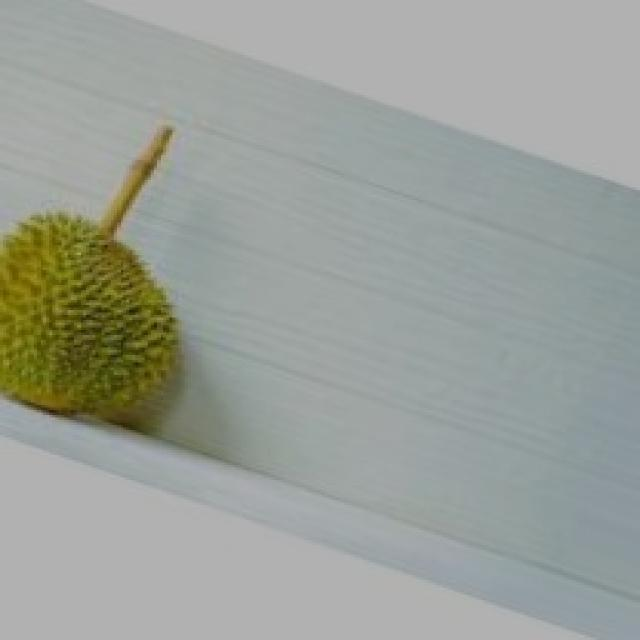fruit: (0, 182, 212, 459)
